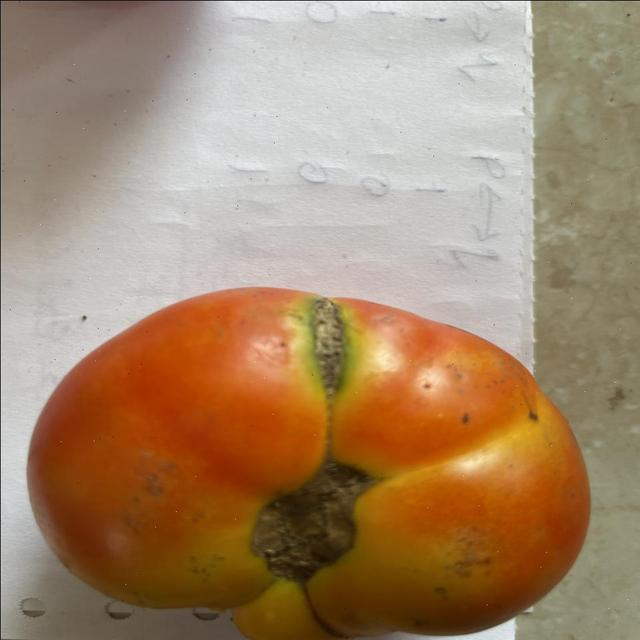Cracking Fruit: (201, 203, 238, 259)
